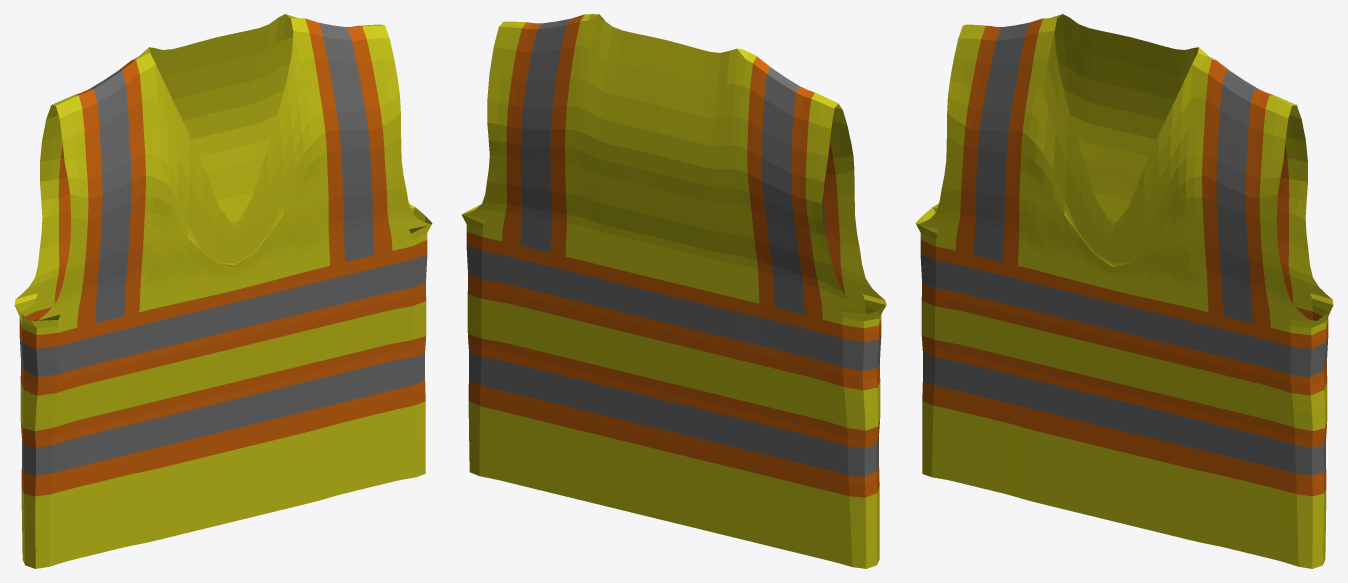
Rendered from VestTest.fbx.
The picture shows the model from 3 angles, left to right: view 1: azimuth 30°, elevation 25°; view 2: azimuth 150°, elevation 25°; view 3: azimuth 330°, elevation 25°; orthographic projection.
Parts seen in each view (by area): view 1: Cube.001; view 2: Cube.001; view 3: Cube.001.
Boxes of the visible parts, <box> form: Cube.001: <box>14,14,432,568</box>; Cube.001: <box>461,14,886,568</box>; Cube.001: <box>915,14,1333,568</box>.
Bounding box in the file's own units: 892 × 1016 × 124.
